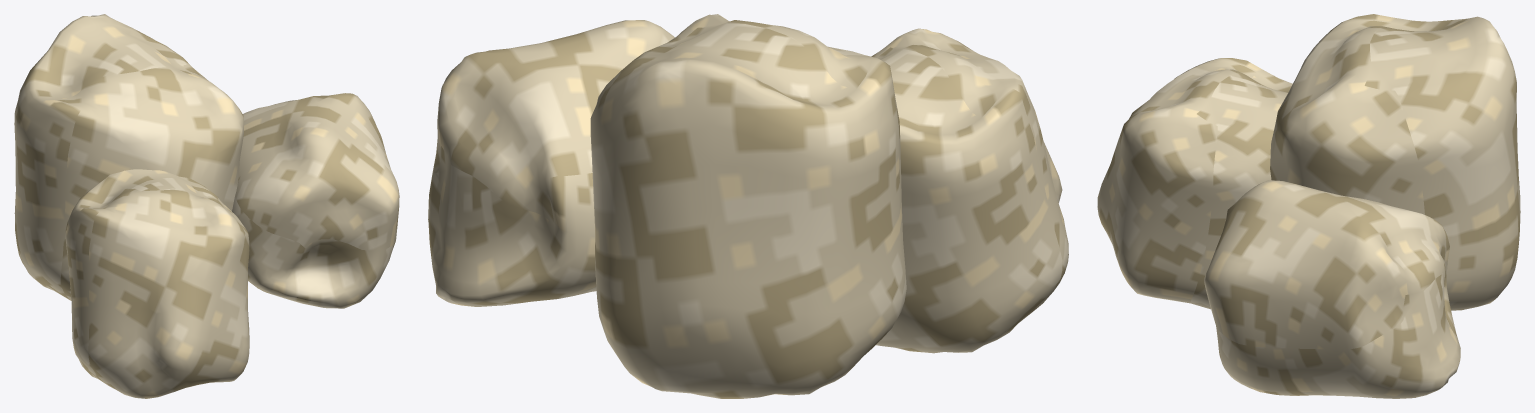
File: Washed Wool.fbx
3 views of the same model, side by side, from view 1: azimuth 30°, elevation 25°; view 2: azimuth 150°, elevation 25°; view 3: azimuth 270°, elevation 25° (orthographic). The views are drawn at different scales.
Visible parts, largest first — view 1: Washed_Wool; view 2: Washed_Wool; view 3: Washed_Wool.
Boxes of the visible parts, x1,y1,x2,y2 form: Washed_Wool: (14,14,399,398); Washed_Wool: (428,14,1068,398); Washed_Wool: (1097,14,1520,398).
Size of the model in its own units: 23.09 by 16.1 by 20.81.
1 material, 1 textured.
